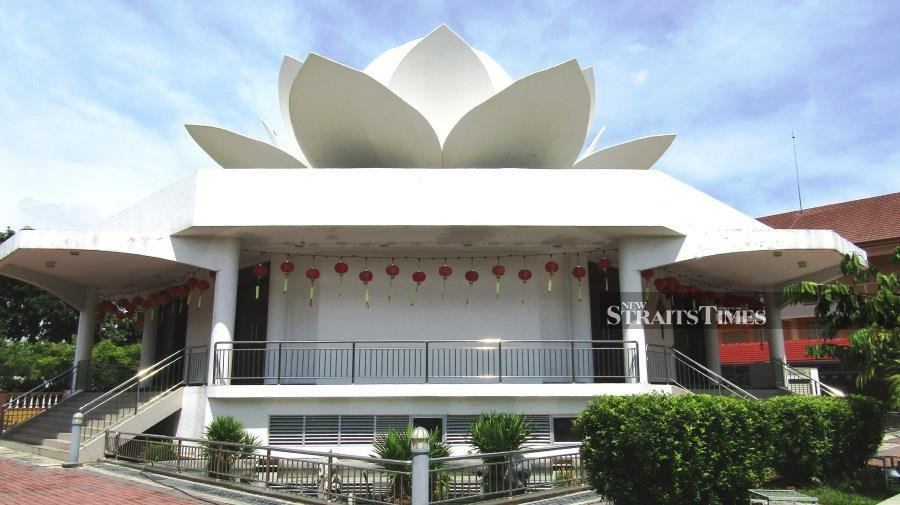Buddhist Temple: (139, 5, 685, 395)
